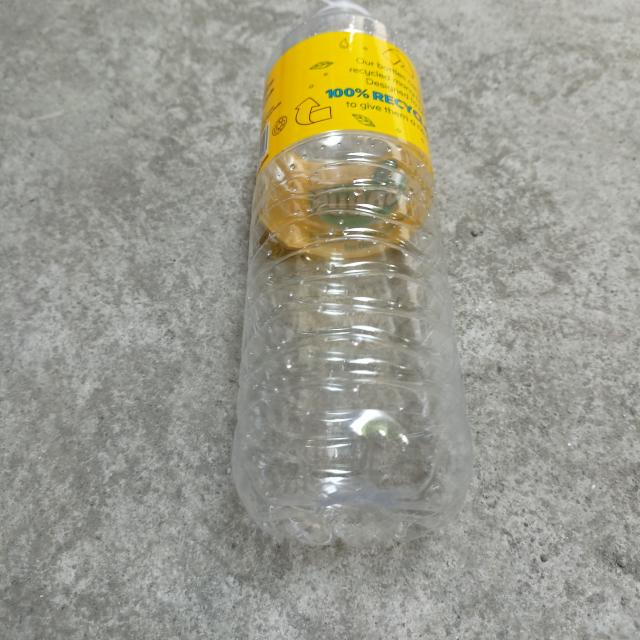Bottle: (230, 6, 477, 543)
